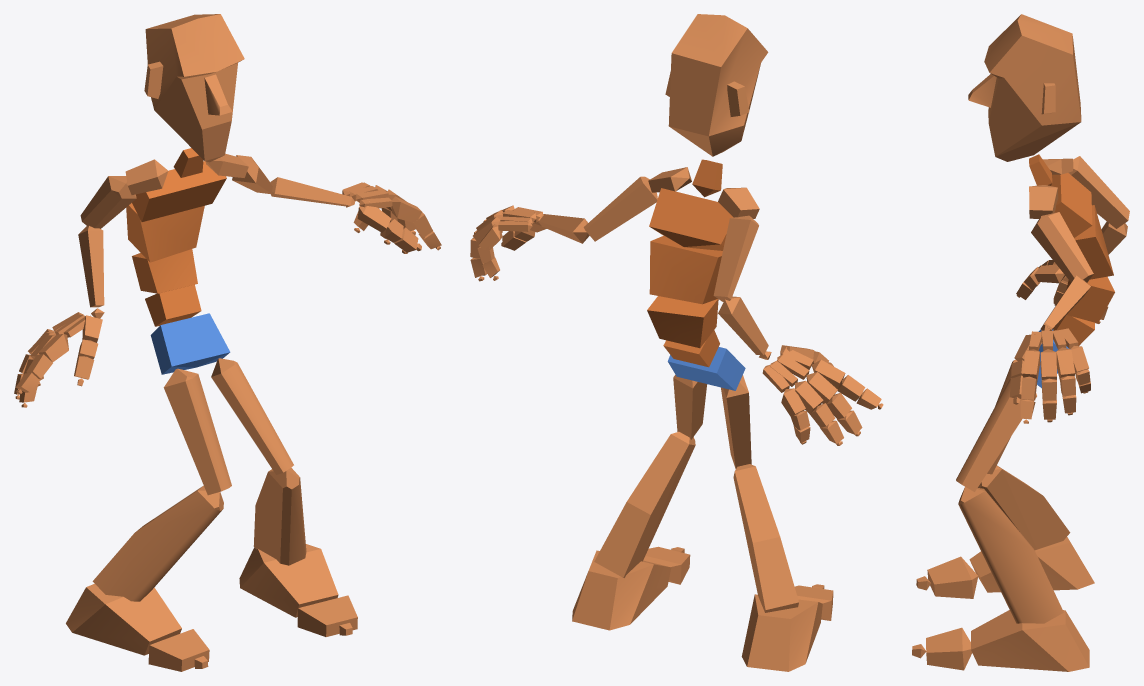
Rendered from prueba120.obj.
3 views of the same model, side by side, from view 1: azimuth 30°, elevation 25°; view 2: azimuth 150°, elevation 25°; view 3: azimuth 270°, elevation 25° (orthographic). The views are drawn at different scales.
Visible parts, largest first — view 1: BOPED_Head, BOPED_R_leg, BOPED_R_foot, BOPED_R_foot01, BOPED_L_leg, BOPED_R_legup, Bone01, BOPED_L_legup, Bone04, Bone05, Bone03, BOPED_R_foot_toe01 (+9 smaller); view 2: BOPED_Head, BOPED_L_leg, BOPED_R_leg, BOPED_R_foot01, BOPED_R_foot, Bone04, Bone05, Bone03, BOPED_R_arm_upper, BOPED_L_arm_upper, BOPED_R_legup, Bone01 (+9 smaller); view 3: BOPED_Head, BOPED_L_leg, BOPED_R_foot01, BOPED_R_leg, BOPED_L_legup, BOPED_R_foot, BOPED_L_arm_upper, Bone05, BOPED_R_arm_upper, BOPED_R_foot_toe01, BOPED_R_foot_toe04, Bone04 (+13 smaller).
Part boxes in pixels (left/top/right/bottom): BOPED_Head: left=144, top=14, right=244, bottom=162; BOPED_R_leg: left=92, top=485, right=223, bottom=601; BOPED_R_foot: left=66, top=583, right=181, bottom=655; BOPED_R_foot01: left=239, top=544, right=338, bottom=617; BOPED_L_leg: left=253, top=467, right=306, bottom=565; BOPED_R_legup: left=163, top=368, right=231, bottom=495; Bone01: left=150, top=313, right=230, bottom=374; BOPED_L_legup: left=211, top=358, right=293, bottom=474; Bone04: left=126, top=203, right=204, bottom=262; Bone05: left=132, top=161, right=226, bottom=221; Bone03: left=132, top=249, right=197, bottom=293; BOPED_R_foot_toe01: left=148, top=629, right=209, bottom=671; BOPED_Head: left=665, top=14, right=768, bottom=156; BOPED_L_leg: left=594, top=431, right=695, bottom=577; BOPED_R_leg: left=733, top=464, right=798, bottom=612; BOPED_R_foot01: left=572, top=550, right=671, bottom=630; BOPED_R_foot: left=741, top=594, right=822, bottom=671; Bone04: left=649, top=236, right=722, bottom=304; Bone05: left=649, top=188, right=733, bottom=250; Bone03: left=647, top=296, right=718, bottom=348; BOPED_R_arm_upper: left=713, top=215, right=758, bottom=301; BOPED_L_arm_upper: left=583, top=176, right=657, bottom=241; BOPED_R_legup: left=721, top=375, right=751, bottom=468; Bone01: left=667, top=347, right=745, bottom=390; BOPED_Head: left=968, top=14, right=1081, bottom=161; BOPED_L_leg: left=958, top=487, right=1063, bottom=623; BOPED_R_foot01: left=971, top=610, right=1089, bottom=671; BOPED_R_leg: left=978, top=465, right=1070, bottom=550; BOPED_L_legup: left=956, top=378, right=1036, bottom=491; BOPED_R_foot: left=969, top=537, right=1094, bottom=592; BOPED_L_arm_upper: left=1031, top=212, right=1093, bottom=282; Bone05: left=1051, top=173, right=1092, bottom=237; BOPED_R_arm_upper: left=1068, top=156, right=1129, bottom=228; BOPED_R_foot_toe01: left=927, top=556, right=978, bottom=598; BOPED_R_foot_toe04: left=926, top=627, right=971, bottom=670; Bone04: left=1074, top=205, right=1113, bottom=279.
Bounding box in the file's own units: 130 × 182 × 60.58.
